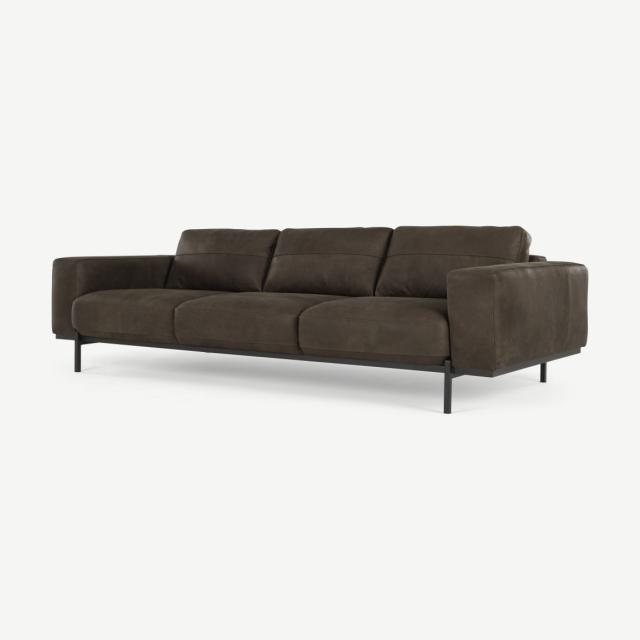back_cushion: (166, 226, 529, 297)
left_arm: (447, 262, 587, 369)
legs: (443, 361, 454, 414), (74, 331, 81, 372), (540, 363, 546, 382)
right_arm: (52, 256, 172, 337)
seat_cushion: (71, 289, 451, 365)
stallion-sofa: (0, 0, 639, 639)
